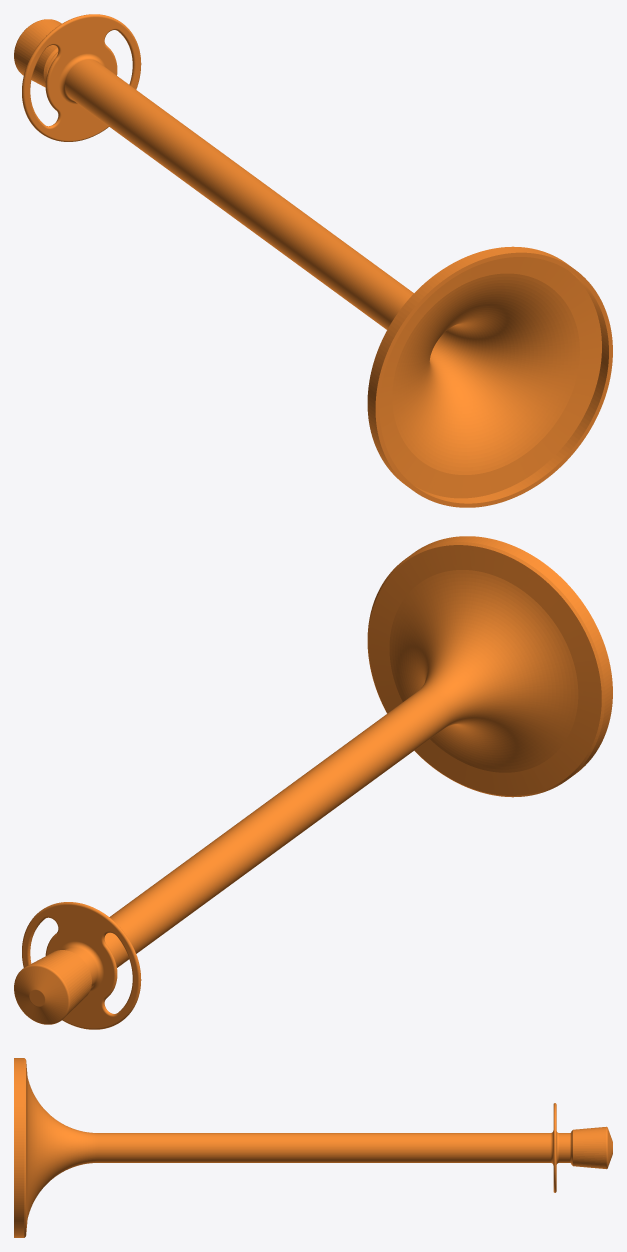
3 views of the same model, one above another, from view 1: azimuth 30°, elevation 25°; view 2: azimuth 150°, elevation 25°; view 3: azimuth 270°, elevation 25° (orthographic). The views are drawn at different scales.
Parts seen in each view (by area): view 1: Node1; view 2: Node1; view 3: Node1.
Boxes of the visible parts, x1,y1,x2,y2 form: Node1: (14,14,612,507); Node1: (14,536,612,1029); Node1: (14,1058,612,1237).
Bounding box in the file's own units: 300 × 300 × 1000.
